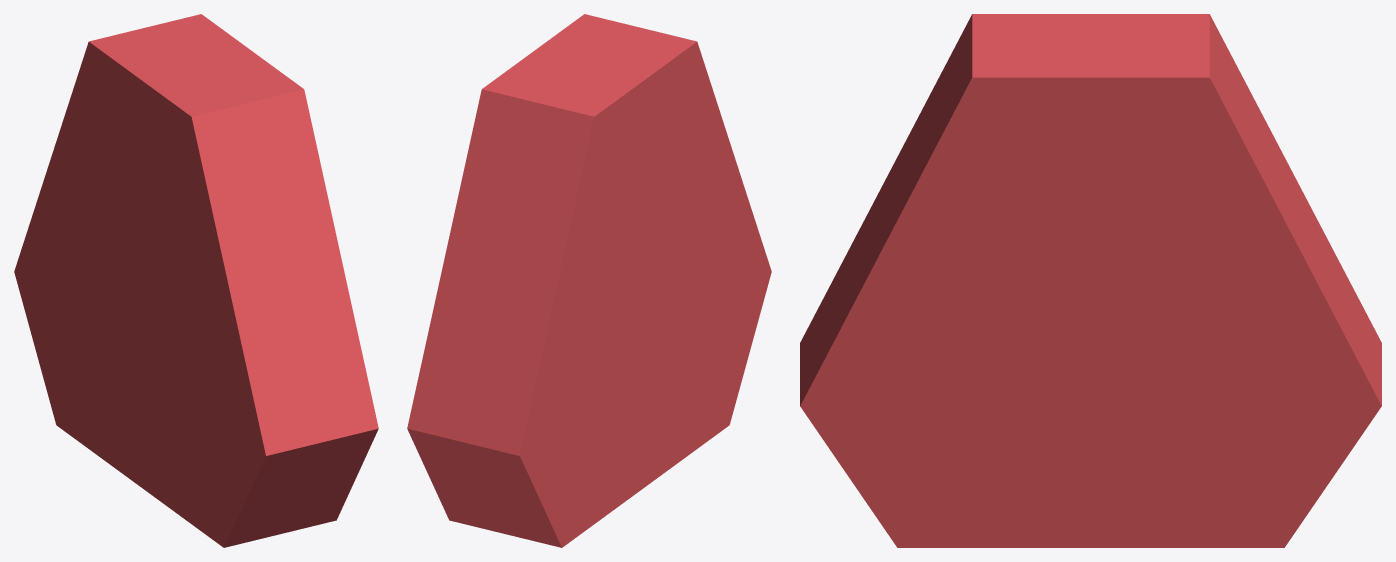
The model's file is fire-alarm.glb.
The picture shows the model from 3 angles, left to right: view 1: azimuth 30°, elevation 25°; view 2: azimuth 150°, elevation 25°; view 3: azimuth 270°, elevation 25°; orthographic projection. The views are drawn at different scales.
Parts seen in each view (by area): view 1: Cube.013; view 2: Cube.013; view 3: Cube.013.
Part boxes in pixels (x1,y1,x2,y2): Cube.013: (14, 14, 378, 547); Cube.013: (407, 14, 771, 547); Cube.013: (800, 14, 1381, 547).
Size of the model in its own units: 0.118 by 0.4073 by 0.4564.
